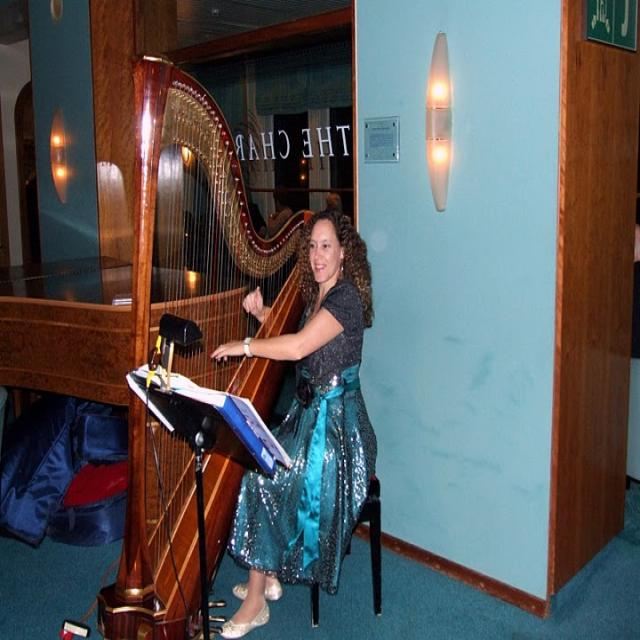harp: (94, 50, 322, 640)
